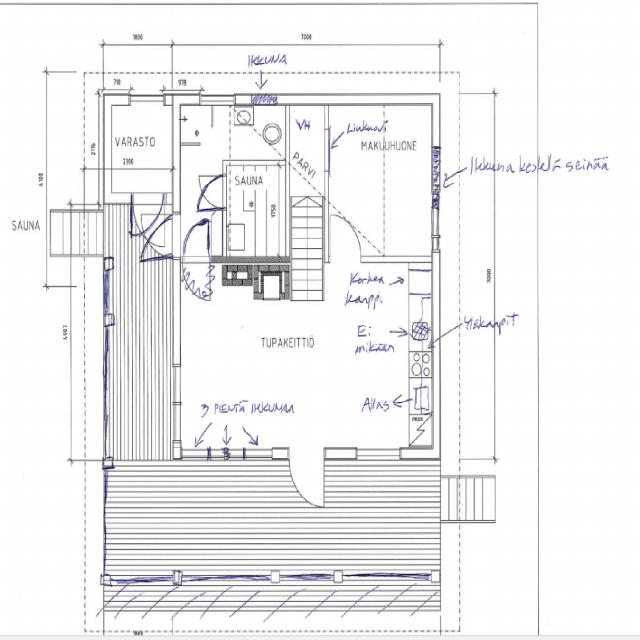door: (289, 449, 324, 508), (133, 193, 164, 247), (142, 215, 181, 256), (330, 215, 360, 262), (182, 218, 210, 262), (198, 176, 227, 208)
